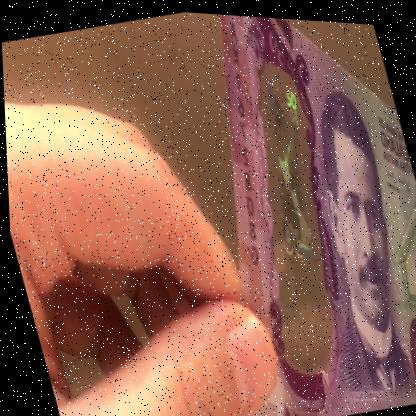50F: (235, 67, 363, 355)
